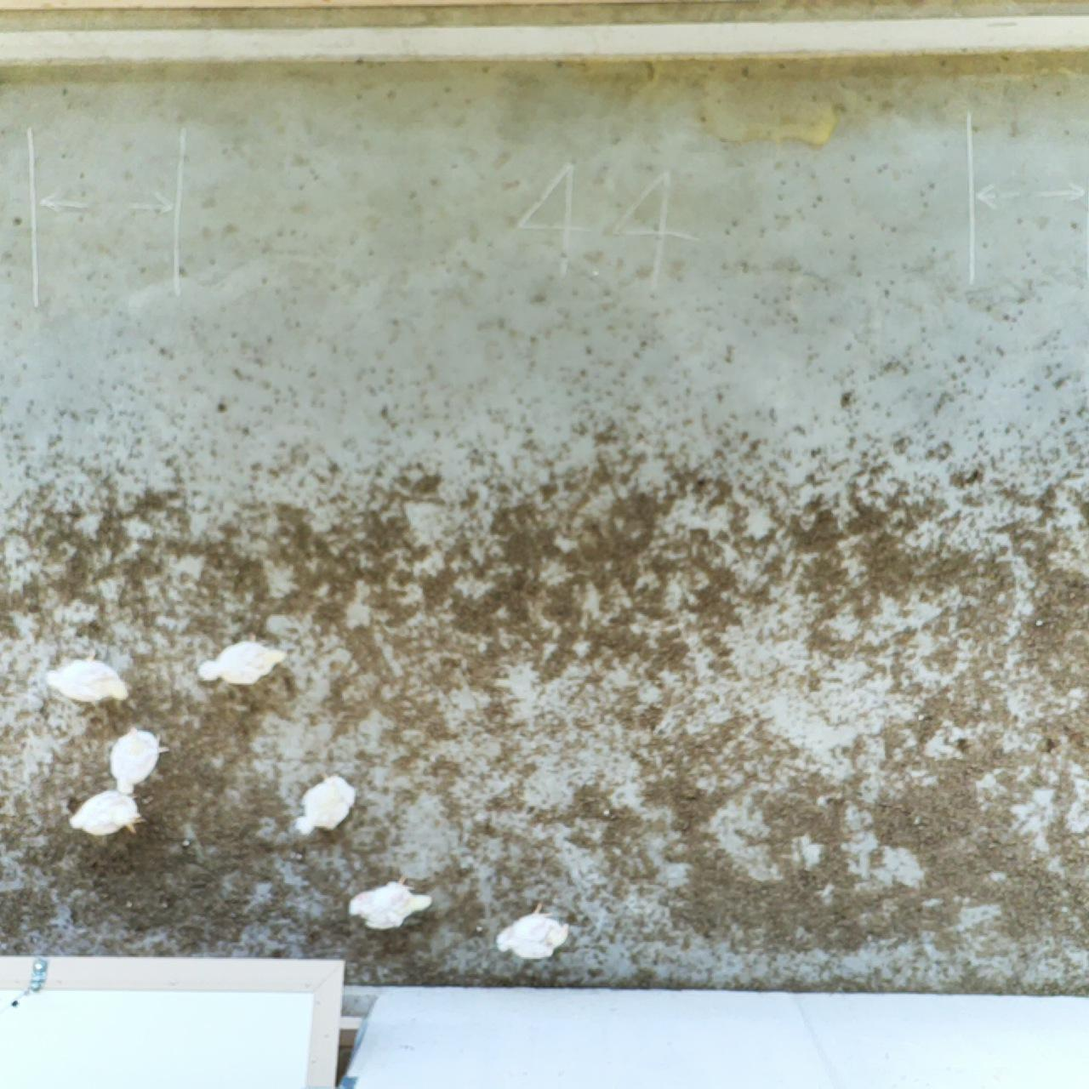chicken: (191, 633, 292, 691), (346, 873, 435, 934), (47, 645, 134, 706), (294, 768, 363, 839), (107, 721, 172, 796), (493, 898, 569, 961), (68, 784, 150, 841)
